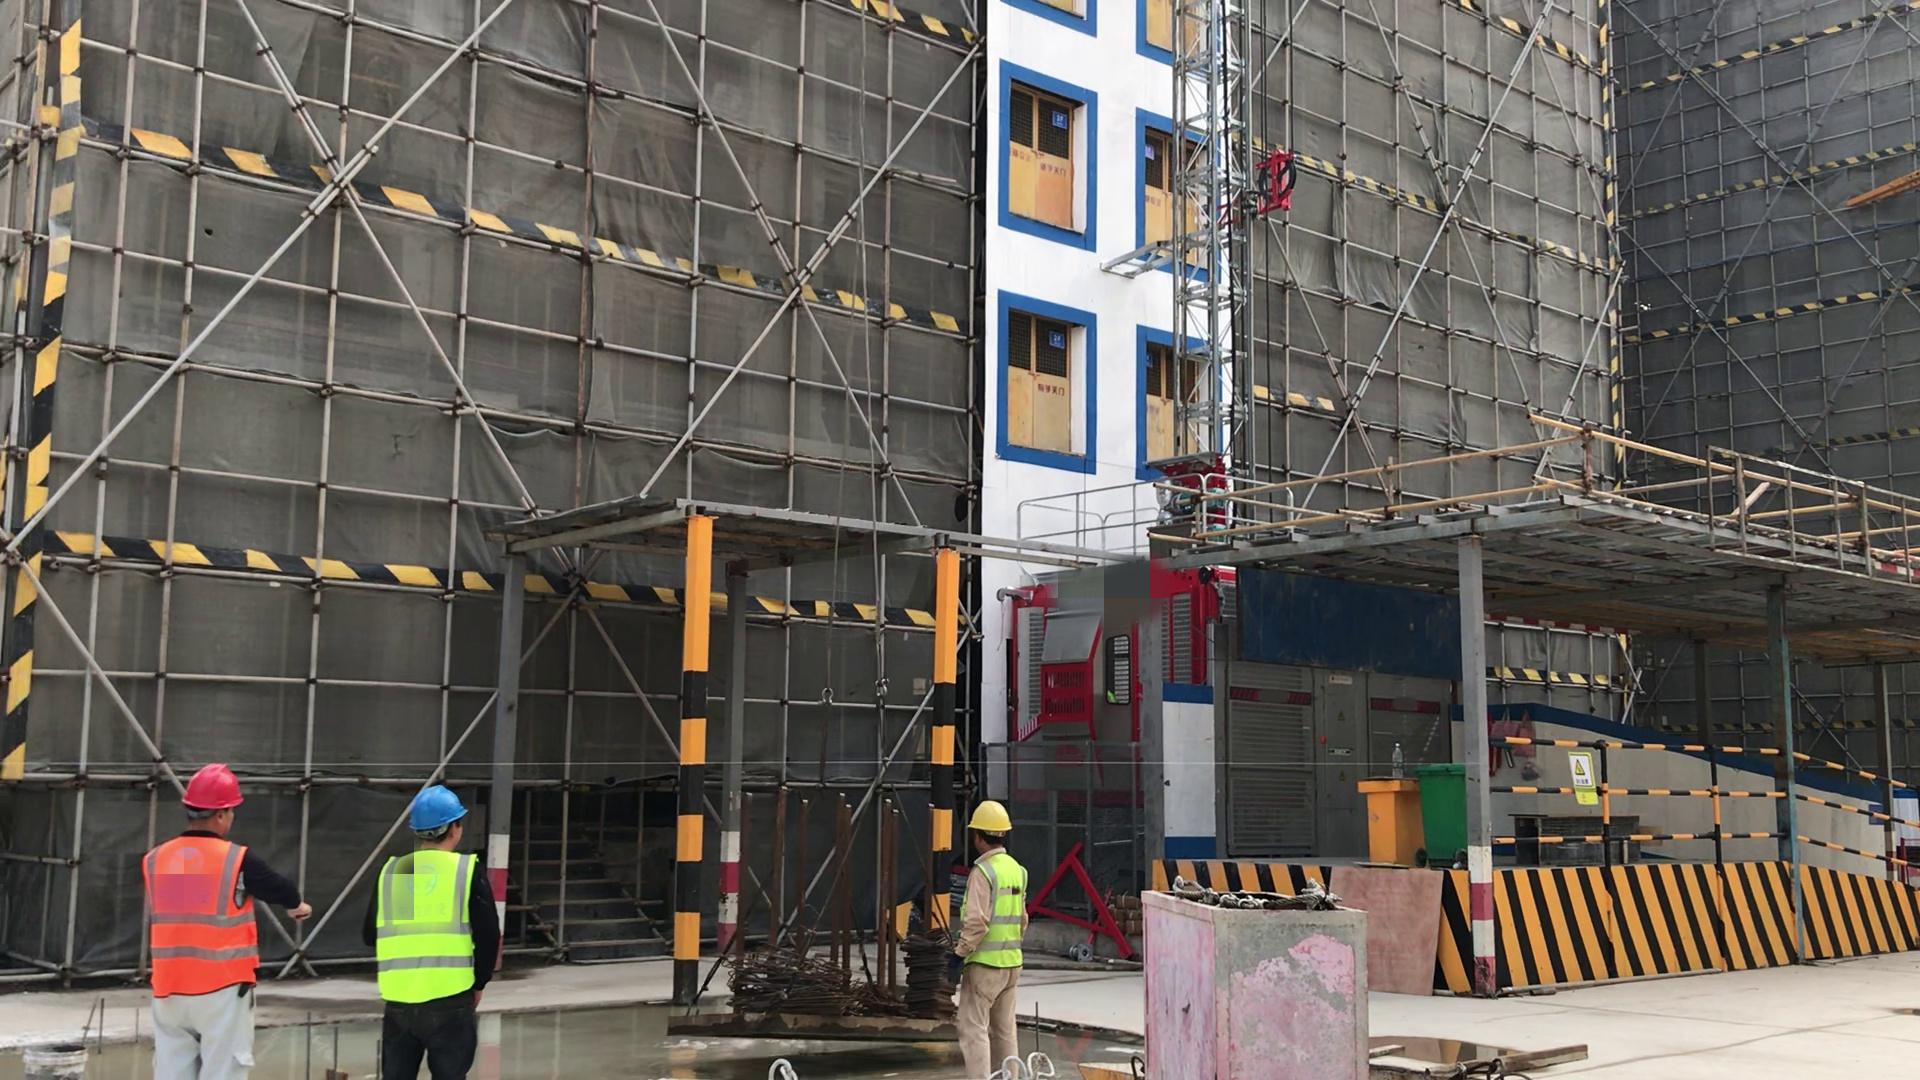fence: (1493, 716, 1920, 881)
helmet: (183, 762, 248, 809), (411, 786, 472, 828), (965, 800, 1015, 837)
person: (140, 762, 312, 1080), (357, 775, 503, 1080), (947, 794, 1031, 1080)
slogan: (1567, 743, 1614, 823)
vest: (140, 835, 264, 1002), (372, 845, 479, 1012), (960, 854, 1029, 976)
